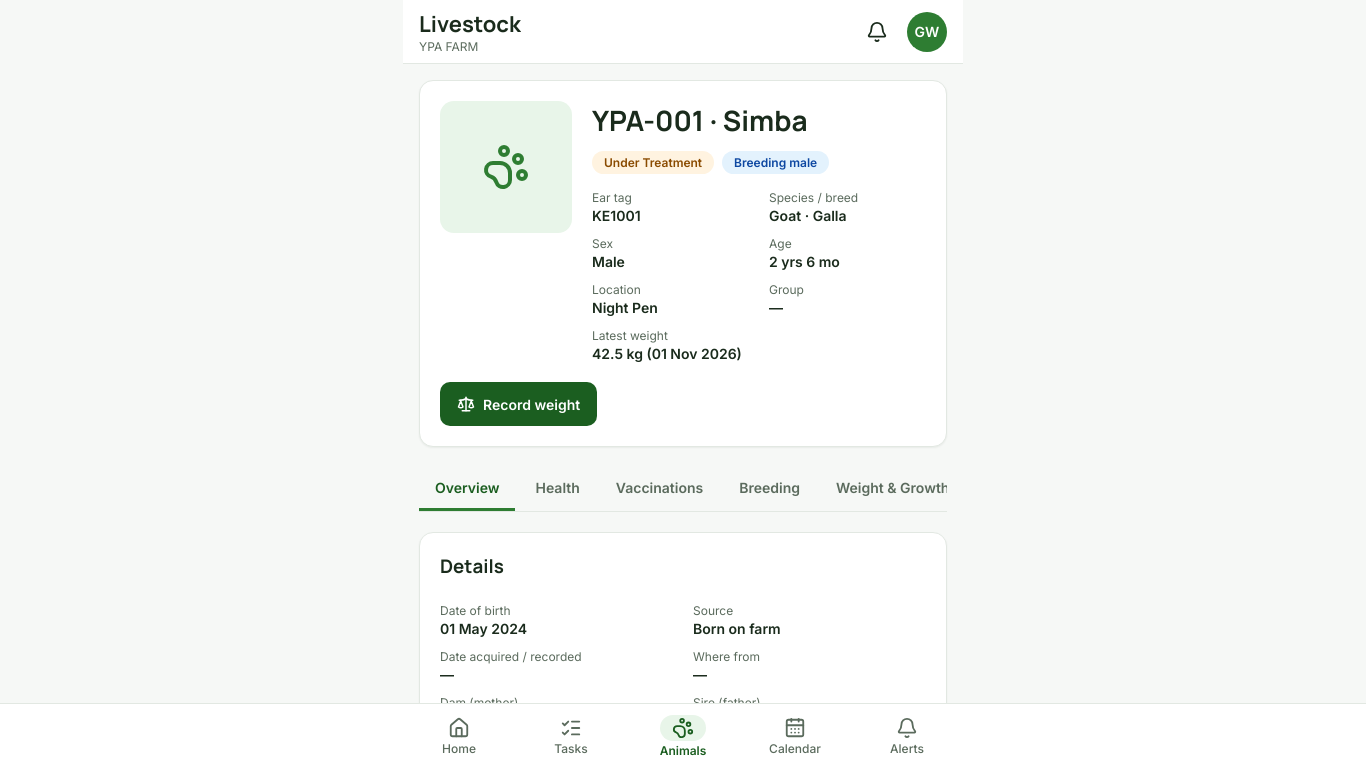
animal profile › shows the header, tabs and records a weight
This screenshot has width=1366, height=768.
Check: the heading "YPA-001 · Simba" is shown, box [592,101,808,139]
Click the button "Record weight" at (519, 404), box [440,382,597,426]
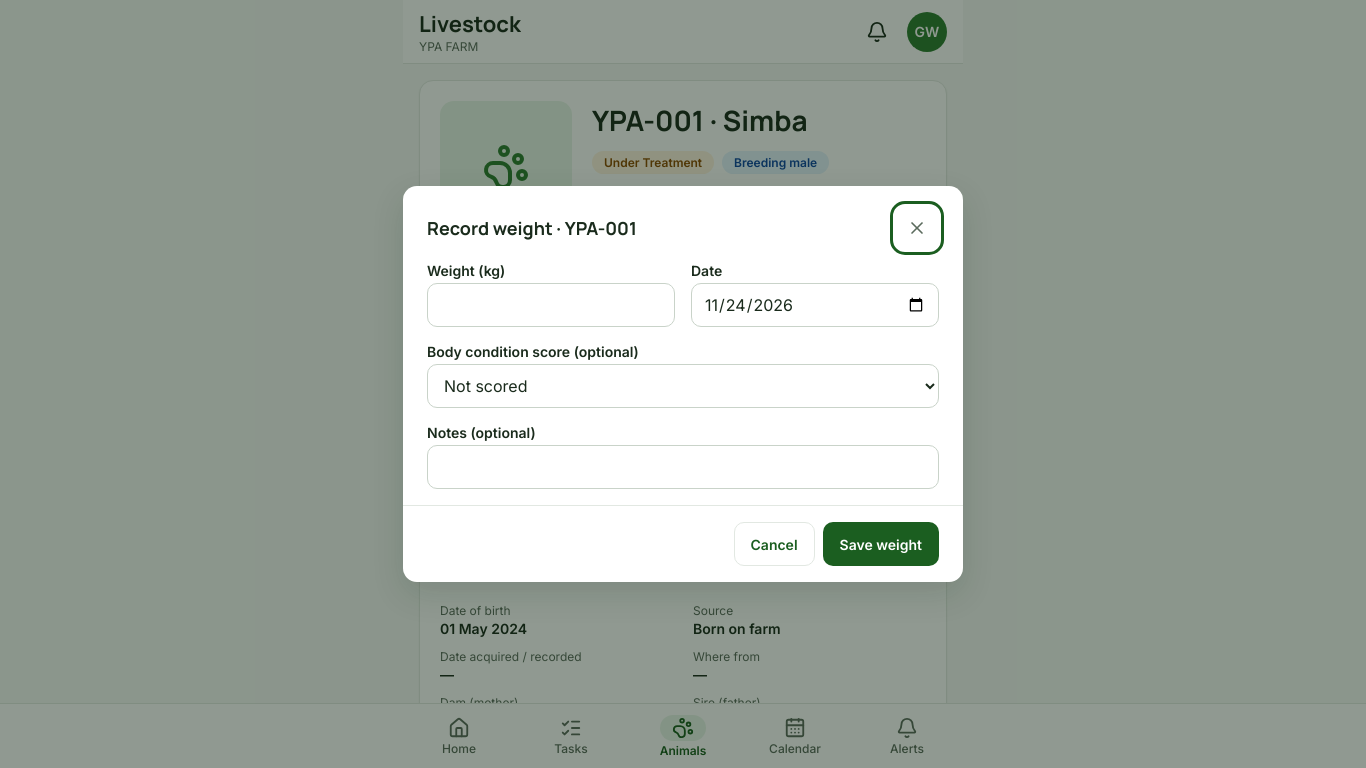
Type "43.2" into the number field labelled "Weight (kg)" at (551, 305), box [427,283,675,327]
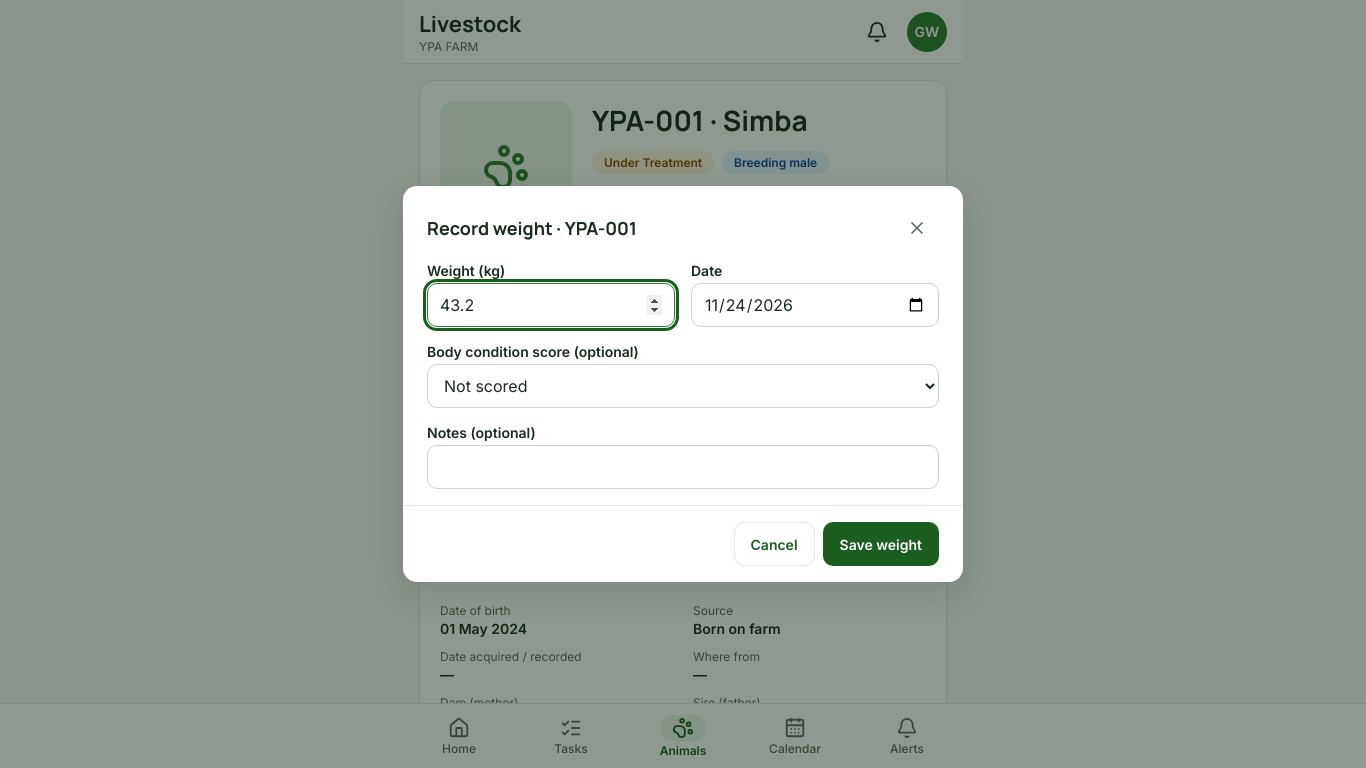
Click the button "Save weight" at (881, 544), box [823,522,939,566]
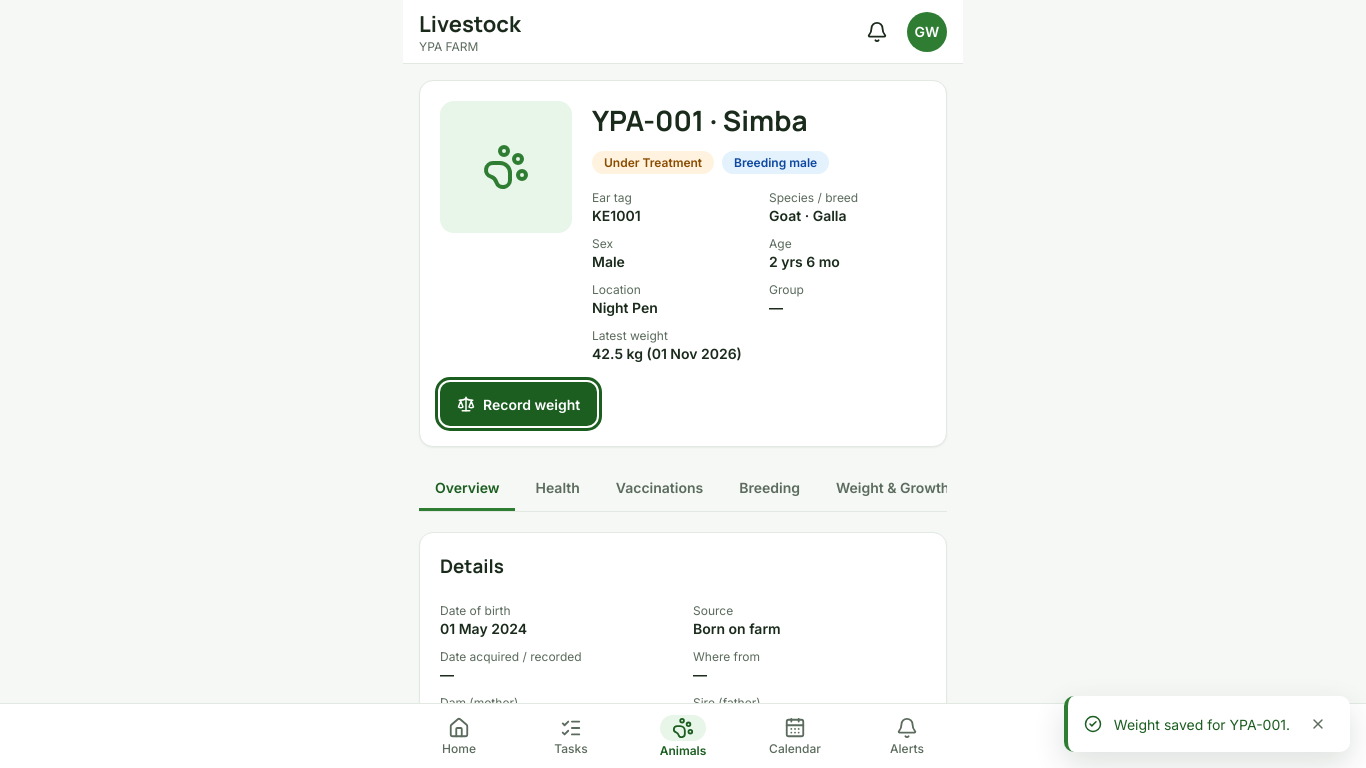
Check: the text "Weight saved for YPA-001." is shown, box [1114,716,1290,732]
